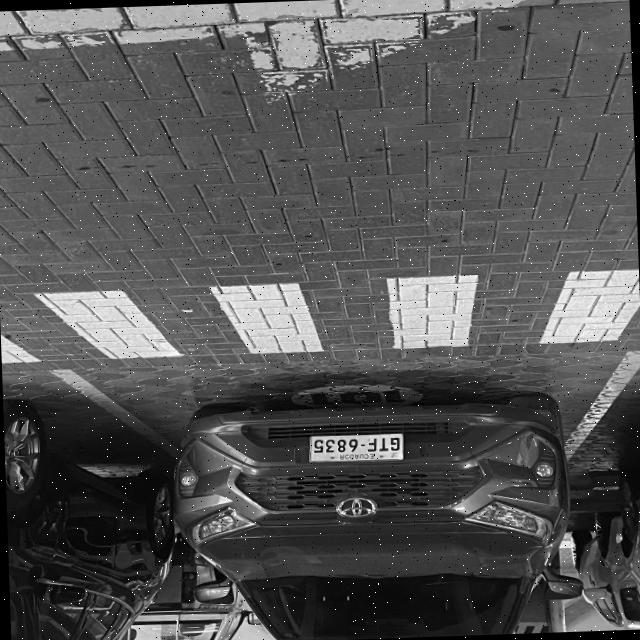Placa: (309, 433, 402, 460)
